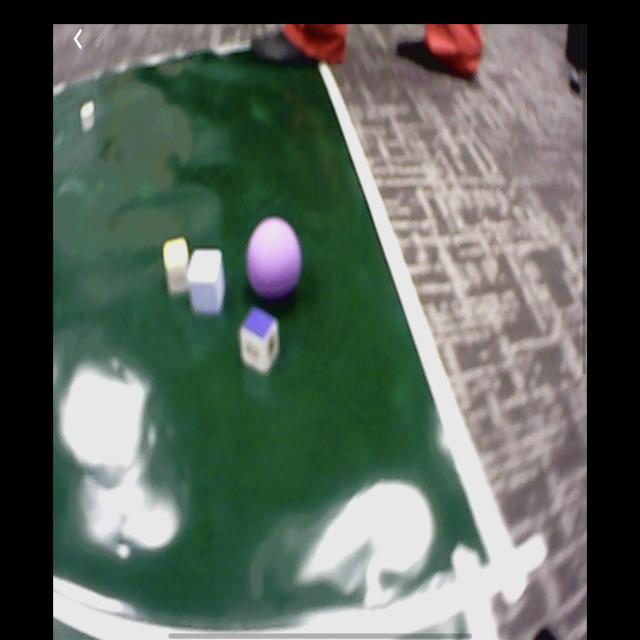ball: (248, 216, 303, 303)
